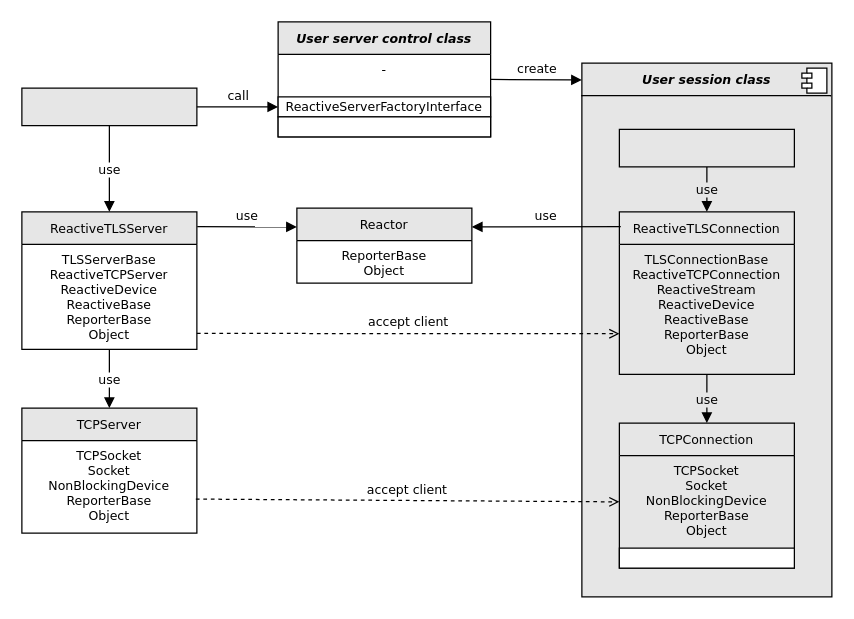
The diagram is 854 pixels wide and 619 high, and some of its shapes have lost their labels. Here are the shapes that lost their labels. From the top down, the centre of each, then its label:
pixel 109 106: Reactive Server
pixel 384 126: ReactiveServerHandlerInterface
pixel 706 147: ReactiveTextStream
pixel 706 557: Stream Interface
